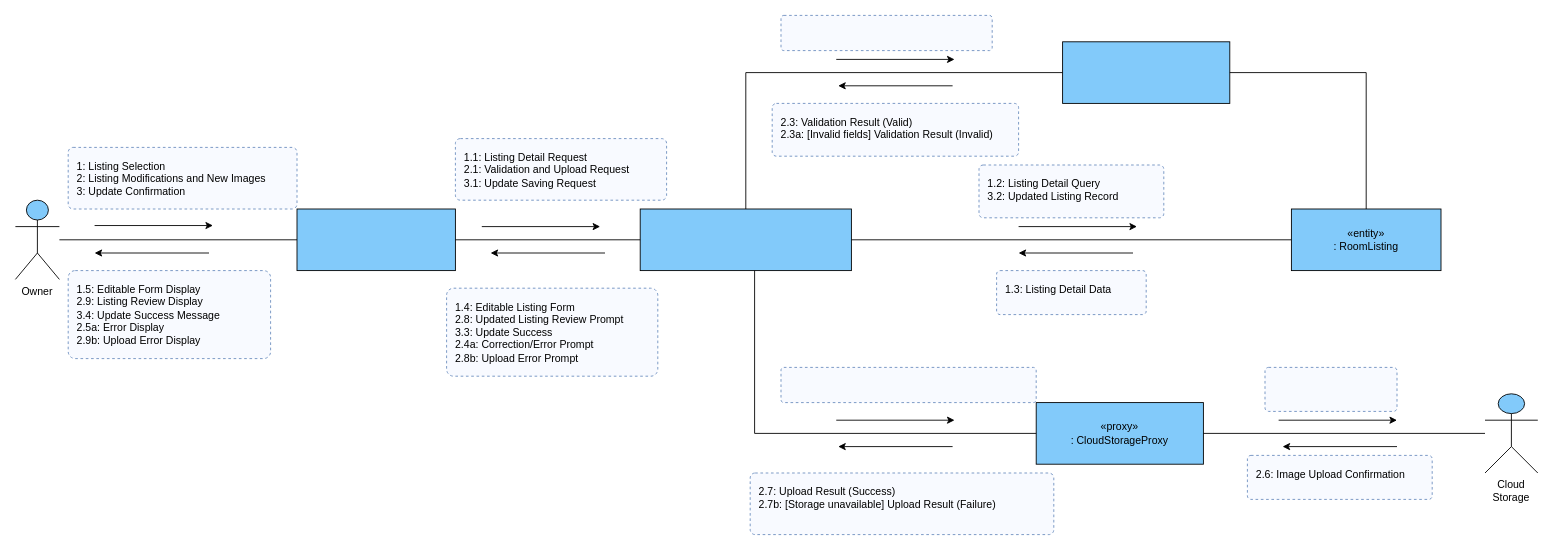
The diagram is 1553 pixels wide and 550 high, and some of its shapes have lost their labels. The shapes that lost their labels are listed below. From the top down, each one's box as (x1, y1, x2, y2) in pixels, then its label:
(780, 15, 992, 51): 2.2: Modified Fields Validation Check
(1062, 41, 1230, 103): «business logic» : RoomListingRules
(296, 208, 455, 271): «user interaction» : OwnerUI
(639, 208, 851, 271): «coordinator» : UpdateRoomListingCoordinator
(780, 367, 1036, 403): 2.4: [If new images] Image Upload Request
(1264, 367, 1397, 411): 2.5: Image Upload
